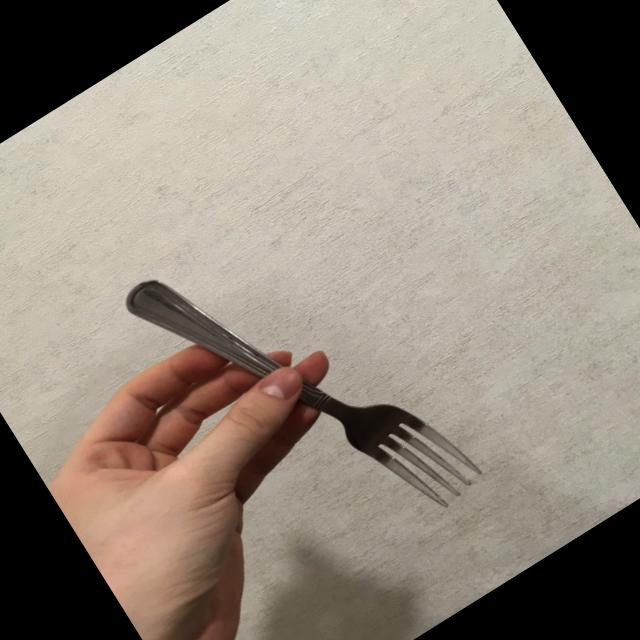fork: (115, 182, 487, 598)
